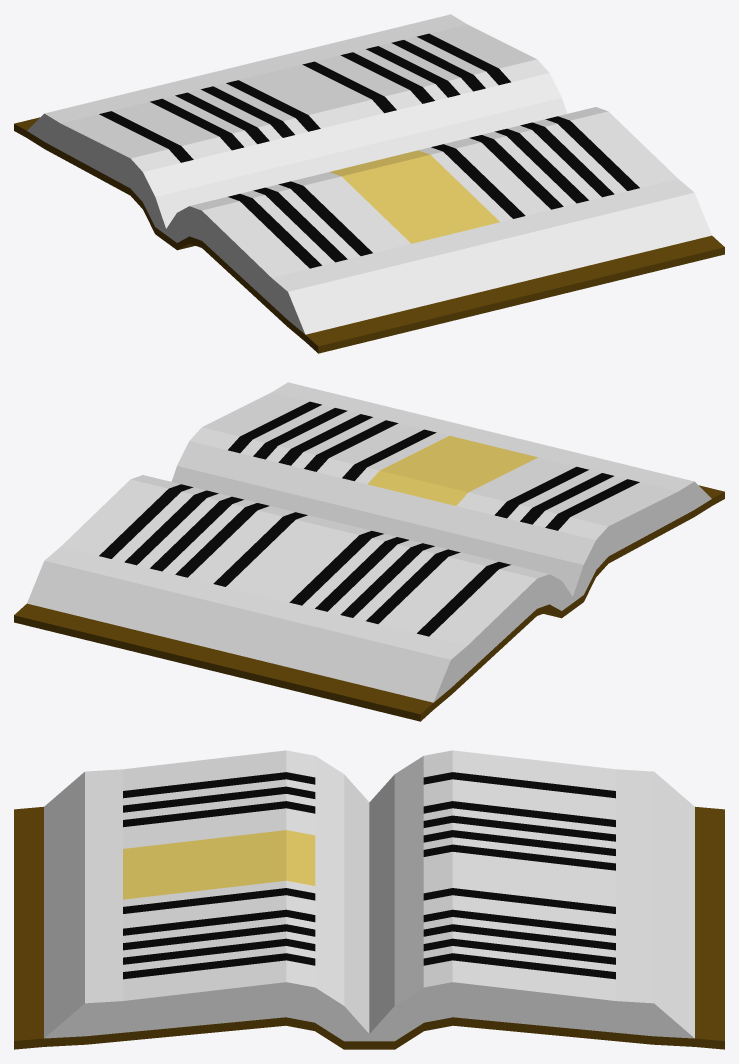
Rendered from book.fbx.
3 renders of one model, top to bottom at view 1: azimuth 30°, elevation 25°; view 2: azimuth 150°, elevation 25°; view 3: azimuth 270°, elevation 25°, orthographic. The views are drawn at different scales.
Parts seen in each view (by area): view 1: Cube.003; view 2: Cube.003; view 3: Cube.003.
Boxes of the visible parts, bbox=[...] form: Cube.003: bbox=[14, 14, 724, 353]; Cube.003: bbox=[14, 382, 724, 721]; Cube.003: bbox=[14, 750, 724, 1049].
Bounding box in the file's own units: 200 × 27.16 × 259.
